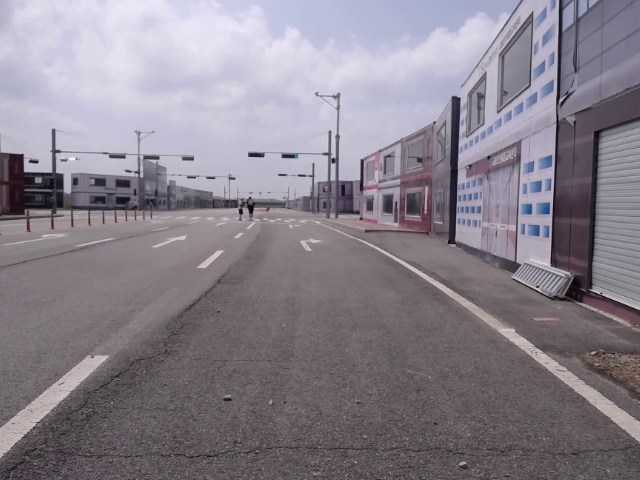straight_green_4: (282, 152, 298, 159)
